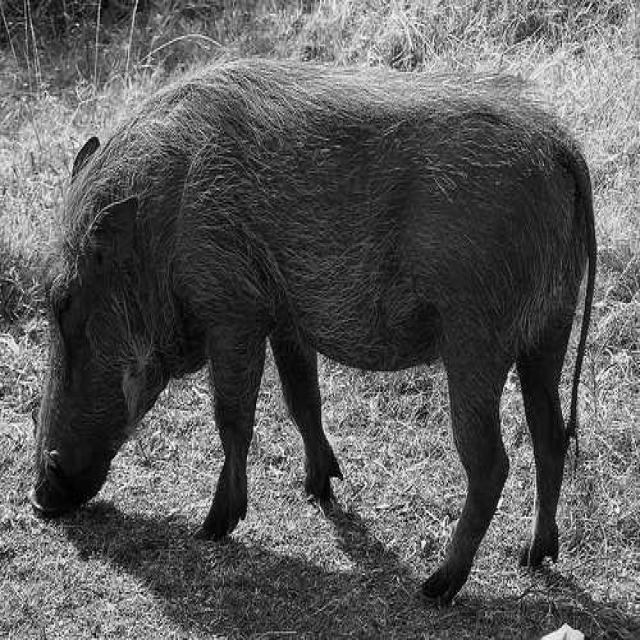boar: (31, 60, 598, 603)
